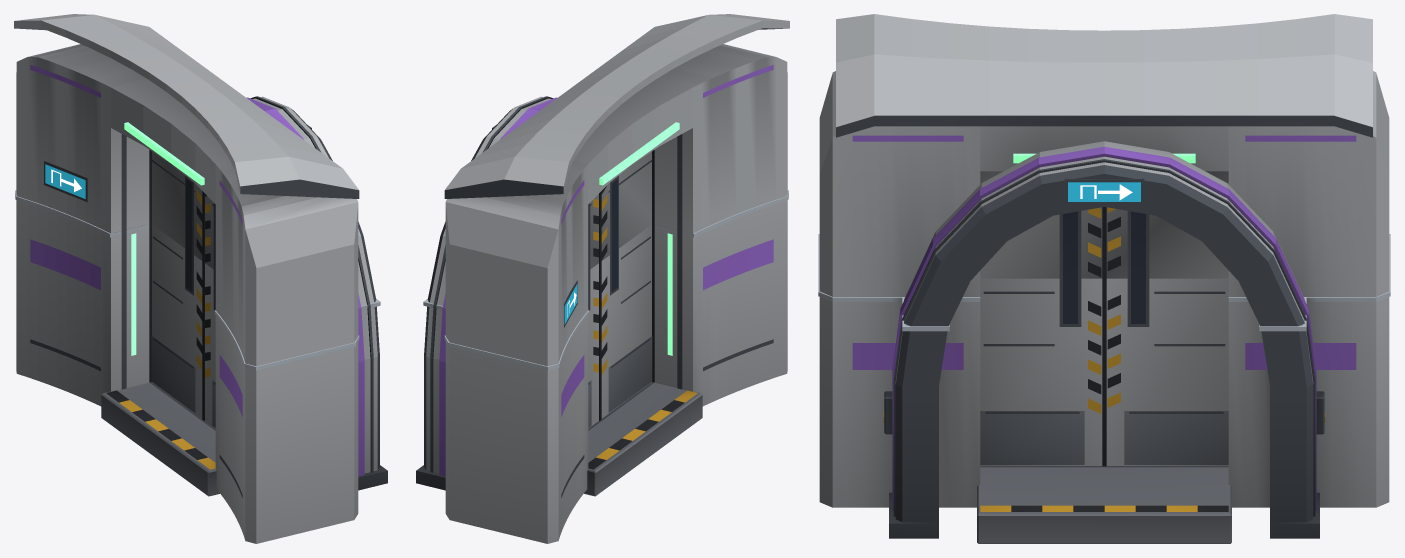
File: doorway_r475.glb
3 views of the same model, side by side, from view 1: azimuth 30°, elevation 25°; view 2: azimuth 150°, elevation 25°; view 3: azimuth 270°, elevation 25° (orthographic). The views are drawn at different scales.
Parts seen in each view (by area): view 1: FrameTop, Frame, DoorR, DoorRTop, DoorL, FrameCap, Sign, DoorLTop, Status, Lights; view 2: FrameTop, Frame, DoorL, DoorLTop, DoorR, FrameCap, DoorRTop, Status, Lights; view 3: FrameTop, Frame, DoorL, DoorR, DoorLTop, DoorRTop, Sign, FrameCap.
Boxes of the visible parts, box(x1,y1,x2,y2) form: FrameTop: box(14, 14, 376, 366); Frame: box(16, 200, 387, 543); DoorR: box(151, 224, 203, 419); DoorRTop: box(151, 151, 203, 262); DoorL: box(203, 263, 215, 428); FrameCap: box(15, 190, 380, 370); Sign: box(44, 125, 311, 202); DoorLTop: box(203, 192, 215, 270); Status: box(124, 122, 204, 185); Lights: box(131, 233, 136, 355); FrameTop: box(427, 14, 789, 366); Frame: box(416, 200, 787, 543); DoorL: box(600, 224, 652, 419); DoorLTop: box(600, 151, 652, 262); DoorR: box(588, 263, 600, 428); FrameCap: box(423, 190, 788, 370); DoorRTop: box(588, 192, 600, 270); Status: box(599, 122, 679, 185); Lights: box(667, 233, 672, 355); FrameTop: box(819, 14, 1389, 326); Frame: box(819, 297, 1389, 543); DoorL: box(980, 278, 1104, 466); DoorR: box(1104, 278, 1228, 466); DoorLTop: box(980, 171, 1104, 278); DoorRTop: box(1104, 171, 1228, 278); Sign: box(1064, 178, 1144, 204); FrameCap: box(818, 234, 1390, 331).
Size of the model in its own units: 1.41 by 2.93 by 3.46.
